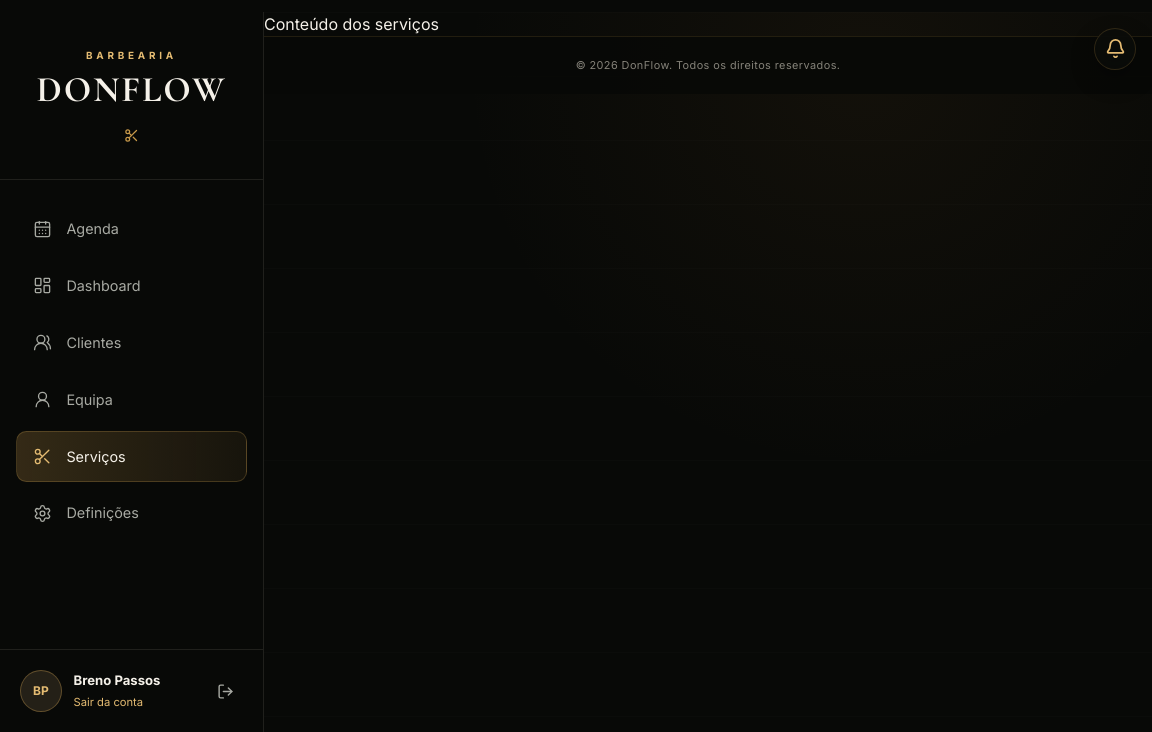
StaffLayout › keeps the main navigation while changing pages
Expected: the heading "Conteúdo dos serviços" is shown, left=264, top=14, right=439, bottom=34
Click the link "Agenda" at (76, 229), box left=33, top=220, right=119, bottom=239
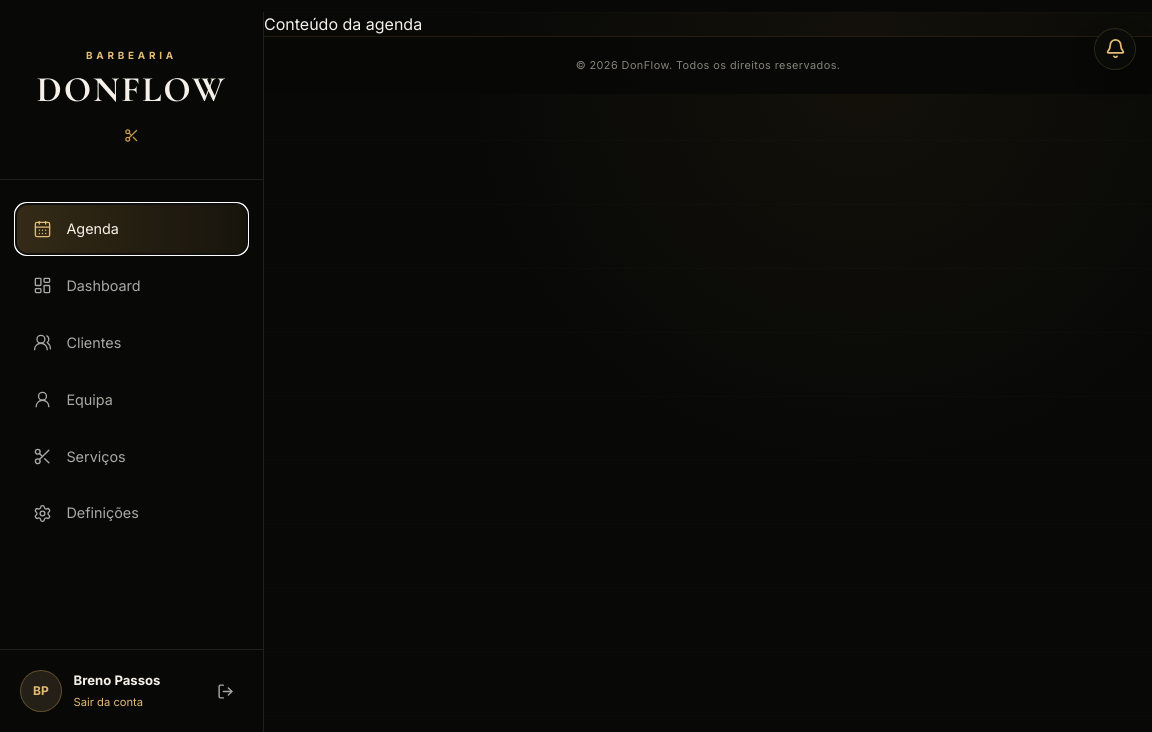
Expected: the navigation bar named "Navegação principal" is shown, left=0, top=180, right=263, bottom=562
Now the heading "Conteúdo da agenda" is shown, box left=264, top=14, right=422, bottom=34
